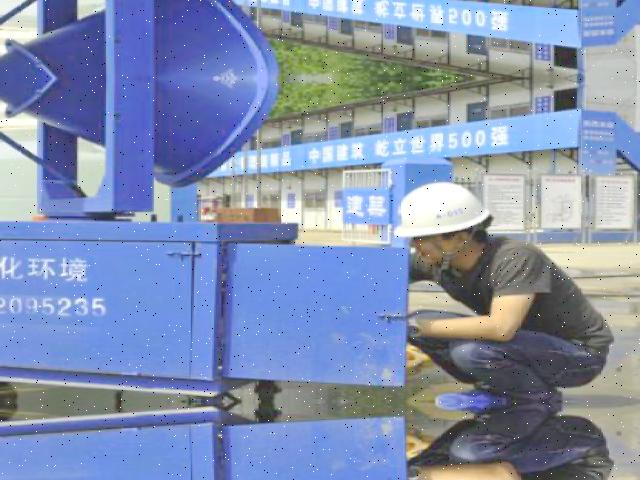Helmet: (385, 177, 492, 244)
